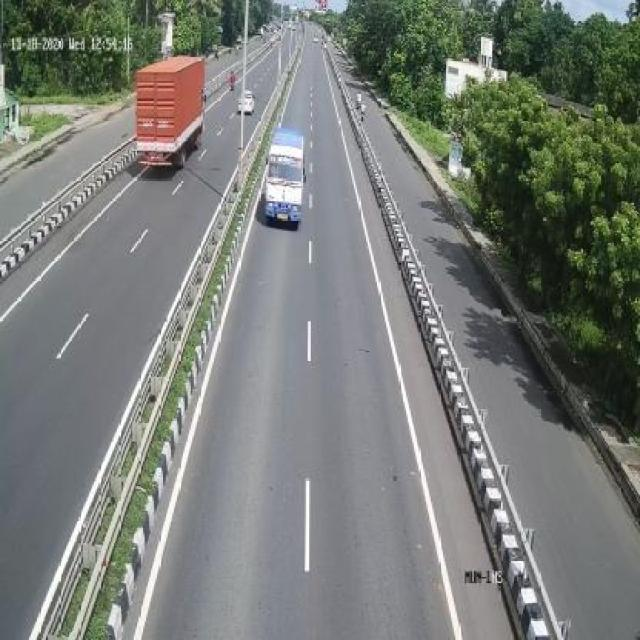car: (238, 86, 256, 119)
